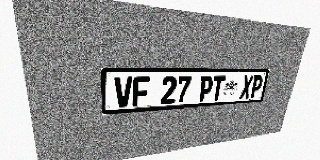2: (160, 76, 177, 104)
7: (175, 76, 192, 103)
F: (132, 76, 150, 106)
P: (198, 76, 214, 102), (249, 75, 264, 98)
T: (210, 76, 226, 101)
V: (114, 77, 132, 108)
X: (239, 75, 254, 99)
